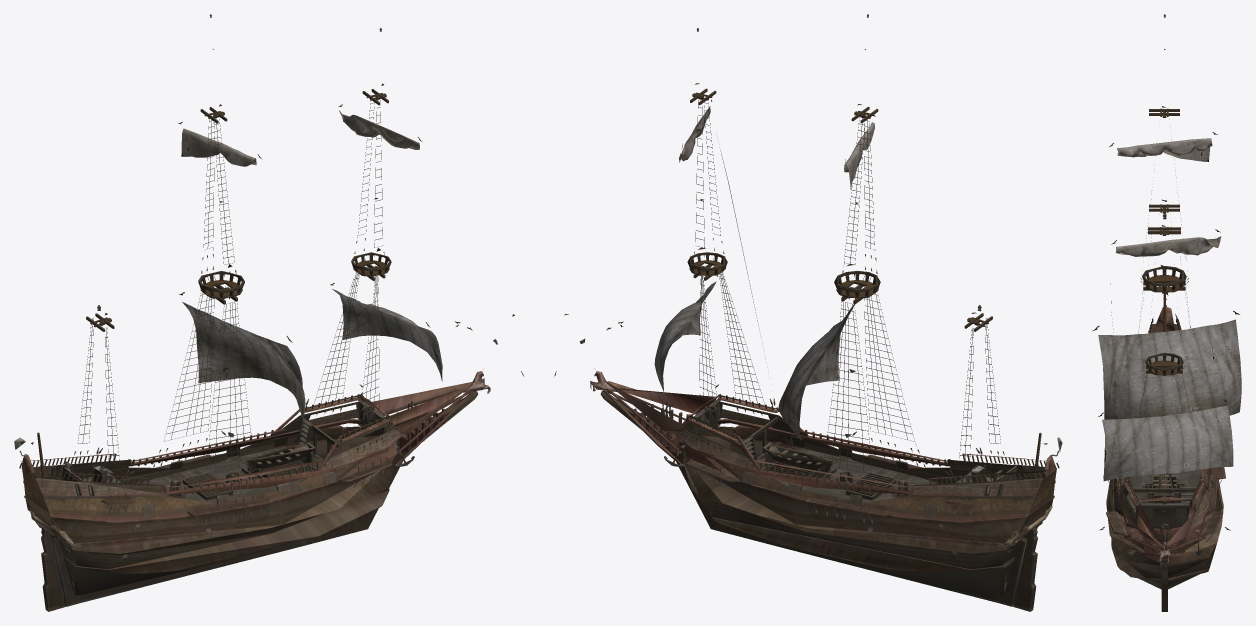
File: tall-ship.glb
3 renders of one model, left to right at view 1: azimuth 30°, elevation 25°; view 2: azimuth 150°, elevation 25°; view 3: azimuth 270°, elevation 25°, orthographic. The views are drawn at different scales.
Visible parts, largest first — view 1: dutch_ship_medium_hull, dutch_ship_medium_sails, dutch_ship_medium_rigging; view 2: dutch_ship_medium_hull, dutch_ship_medium_rigging, dutch_ship_medium_sails; view 3: dutch_ship_medium_sails, dutch_ship_medium_hull, dutch_ship_medium_rigging.
Part boxes in pixels (bbox=[...]): dutch_ship_medium_hull: bbox=[14, 369, 490, 611]; dutch_ship_medium_sails: bbox=[181, 110, 442, 426]; dutch_ship_medium_rigging: bbox=[31, 14, 524, 524]; dutch_ship_medium_hull: bbox=[590, 368, 1062, 611]; dutch_ship_medium_rigging: bbox=[554, 14, 1047, 524]; dutch_ship_medium_sails: bbox=[654, 106, 874, 440]; dutch_ship_medium_sails: bbox=[1098, 138, 1241, 481]; dutch_ship_medium_hull: bbox=[1103, 293, 1225, 611]; dutch_ship_medium_rigging: bbox=[1092, 14, 1239, 556].
Bounding box in the file's own units: 23.12 × 24.66 × 6.33.
3 materials, 3 textured.
